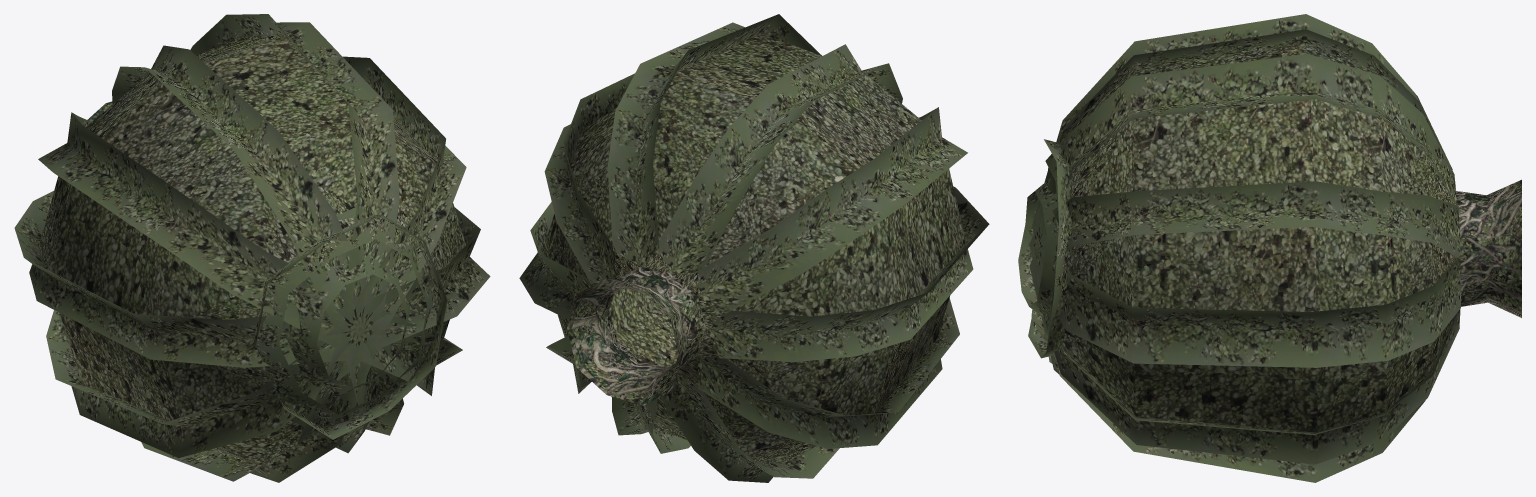
File: foliage_hedge_gumdrop_1_LOD0.obj
3 views of the same model, side by side, from view 1: azimuth 30°, elevation 25°; view 2: azimuth 150°, elevation 25°; view 3: azimuth 270°, elevation 25° (orthographic). The views are drawn at different scales.
Visible parts, largest first — view 1: mtl_hedges_noshadow; view 2: mtl_hedges_noshadow, mtl_hedges_alpha; view 3: mtl_hedges_noshadow.
Part boxes in pixels (x1,y1,x2,y2): mtl_hedges_noshadow: [14, 14, 490, 482]; mtl_hedges_noshadow: [519, 14, 989, 482]; mtl_hedges_alpha: [571, 283, 683, 400]; mtl_hedges_noshadow: [1018, 14, 1521, 482].
Bounding box in the file's own units: 126 × 129 × 137.
